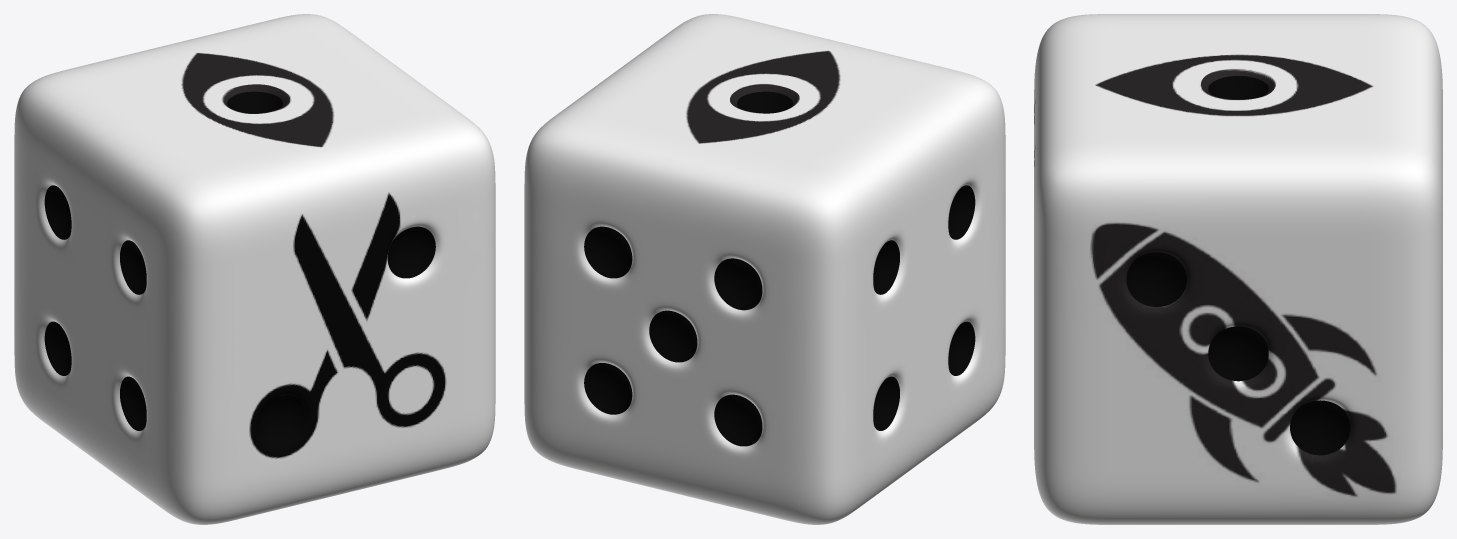
File: Dice 3 Sides.fbx
3 renders of one model, left to right at view 1: azimuth 30°, elevation 25°; view 2: azimuth 150°, elevation 25°; view 3: azimuth 270°, elevation 25°, orthographic. The views are drawn at different scales.
Parts seen in each view (by area): view 1: Cube; view 2: Cube; view 3: Cube.
Part boxes in pixels (<box>): Cube: <box>14,14,495,524</box>; Cube: <box>524,14,1005,524</box>; Cube: <box>1034,14,1442,524</box>.
Bounding box in the file's own units: 100 × 100 × 100.
